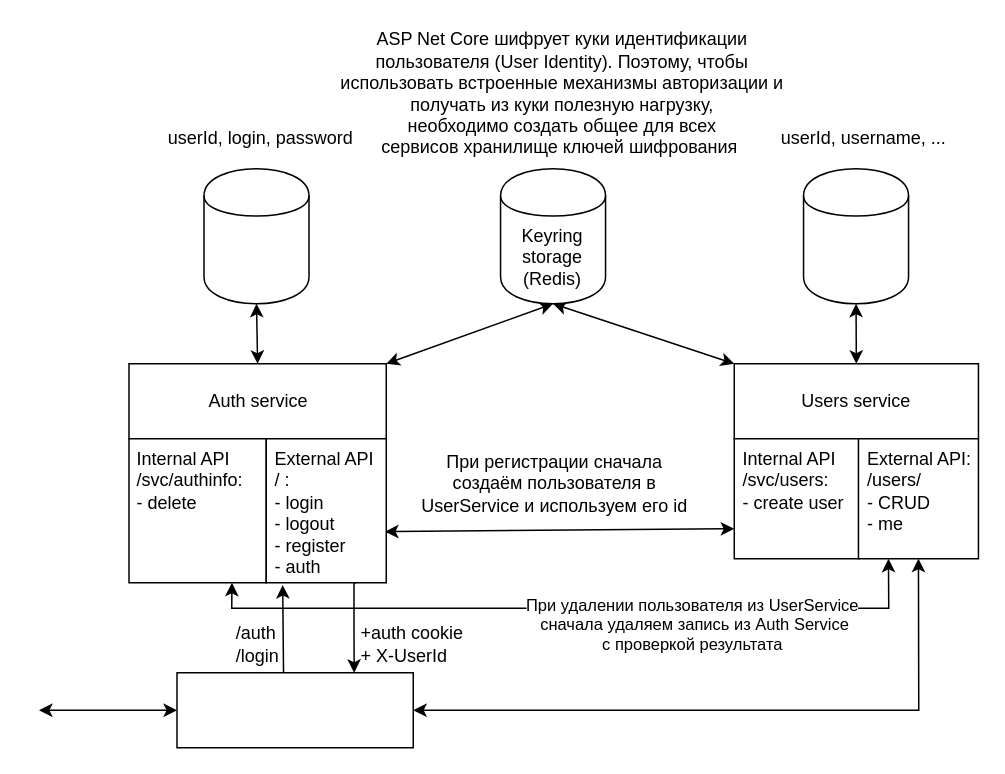
Image size: 1005x774. Some labels were removed from this diagram. Here are the shapes that lost their labels. From the top down, the centre of each, then its label:
At (x=255, y=235): "Auth info (RavenDB)".
At (x=855, y=235): "Users data (RavenDB)".
At (x=294, y=709): "Nginx".
